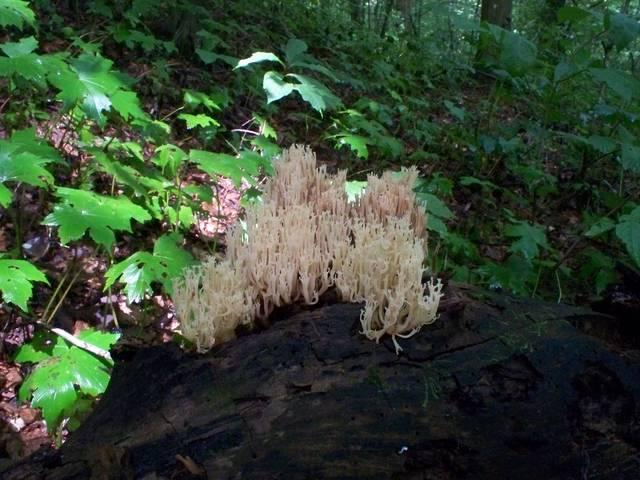edible_mushroom: (169, 142, 444, 354), (334, 165, 444, 351)
